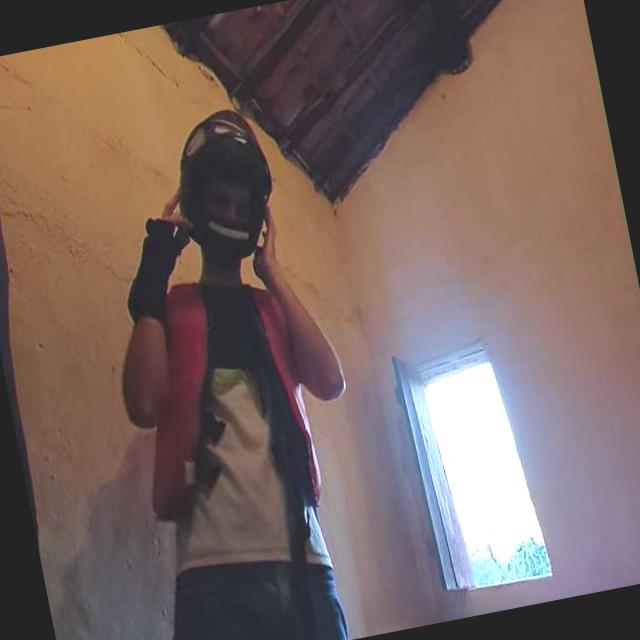capacete: (168, 103, 277, 259)
colete: (138, 280, 335, 517)
pessoa: (119, 171, 347, 640)
